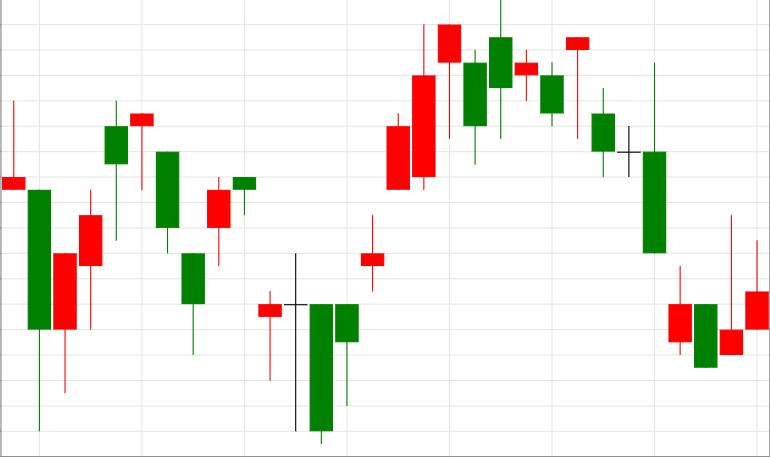hanging_man_fall: (361, 24, 461, 293)
